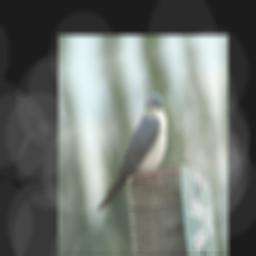Swallow: (87, 91, 174, 213)
